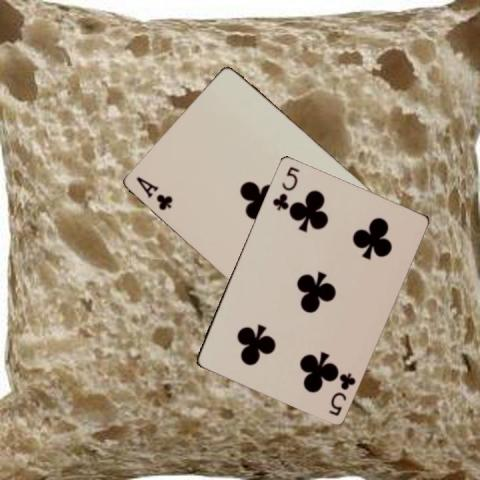5c: (270, 163, 302, 211), (326, 370, 358, 418)
Ac: (133, 173, 175, 212)
